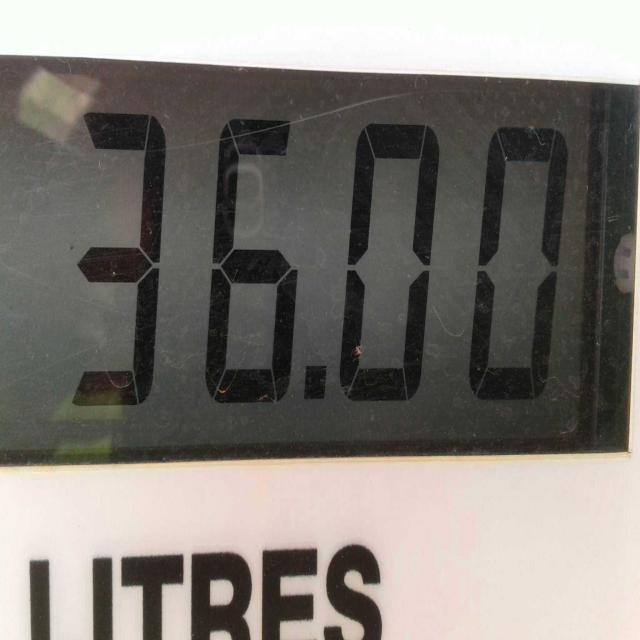.: (295, 356, 331, 425)
0: (336, 114, 441, 414), (474, 122, 586, 398)
3: (66, 102, 168, 420)
6: (210, 113, 302, 410)
